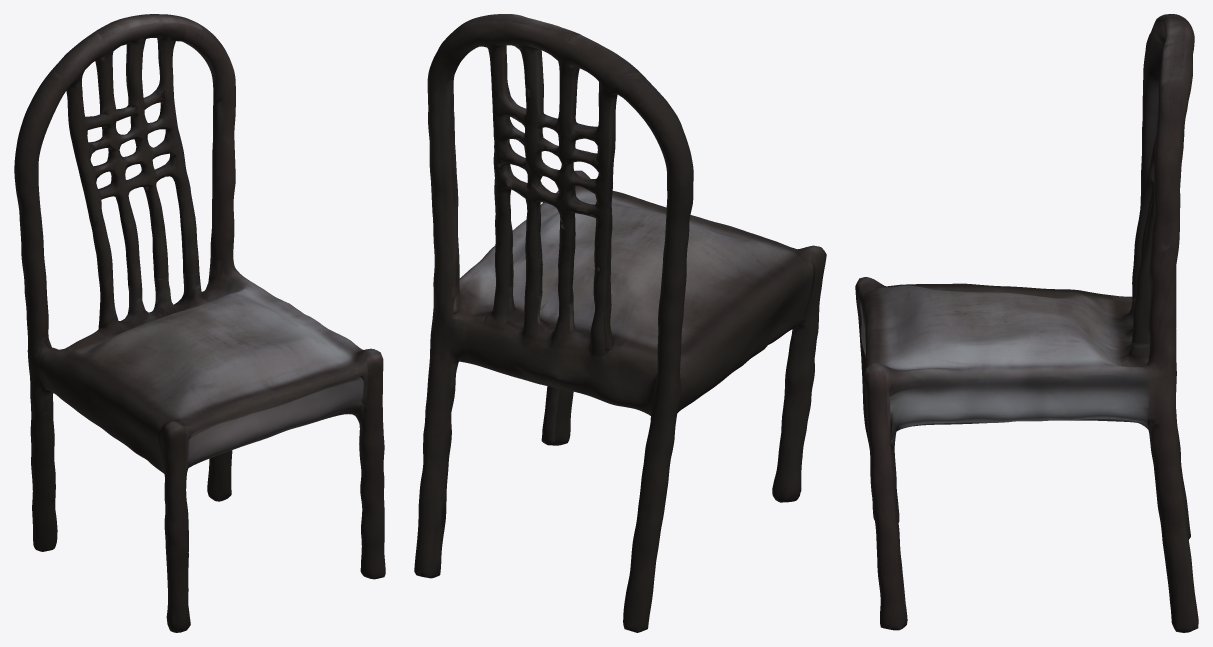
File: mmd.glb
3 views of the same model, side by side, from view 1: azimuth 30°, elevation 25°; view 2: azimuth 150°, elevation 25°; view 3: azimuth 270°, elevation 25° (orthographic). The views are drawn at different scales.
Size of the model in its own units: 0.6102 by 1.2 by 0.6679.
Materials: 1 (1 with a texture image).
